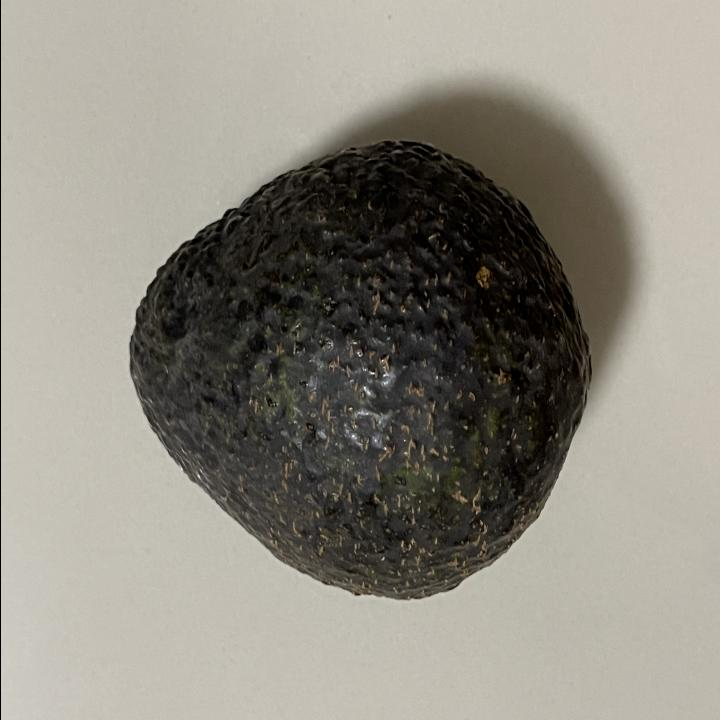Level2: (118, 131, 596, 608)
